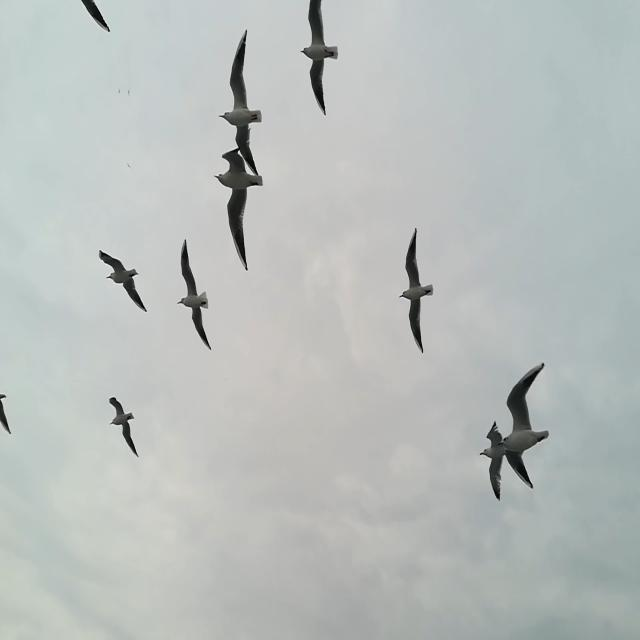bird: (218, 31, 263, 185), (497, 362, 550, 492), (214, 145, 263, 274), (300, 0, 340, 119), (399, 226, 435, 351), (177, 239, 212, 352), (99, 248, 148, 312), (478, 418, 508, 504), (109, 394, 141, 456), (80, 0, 110, 33), (0, 390, 14, 435), (126, 161, 132, 170), (118, 88, 121, 94), (128, 89, 130, 97)
